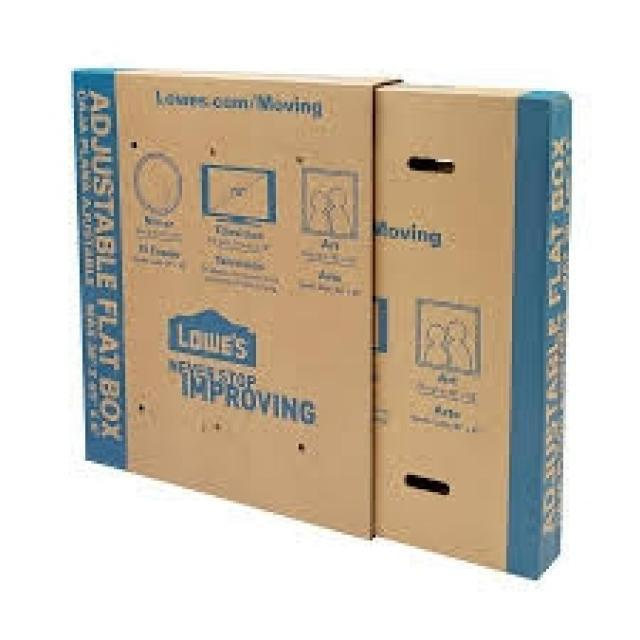cardboard paper: (74, 70, 569, 575), (73, 70, 372, 534), (374, 86, 569, 575)
